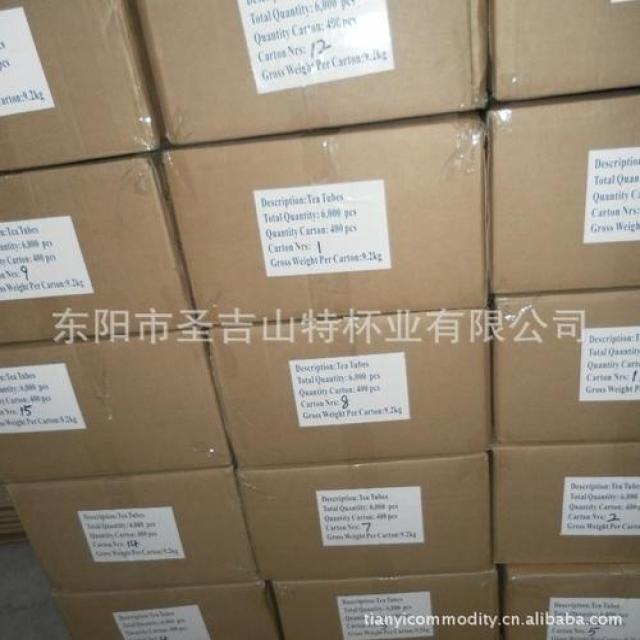box: (157, 110, 489, 328), (128, 0, 489, 148), (202, 307, 490, 469), (0, 154, 196, 344), (0, 329, 232, 482), (233, 452, 492, 581), (484, 87, 640, 299), (3, 468, 264, 593), (492, 287, 640, 446), (490, 441, 640, 565), (269, 569, 500, 640), (489, 0, 640, 105), (50, 583, 282, 640), (502, 564, 640, 640)
